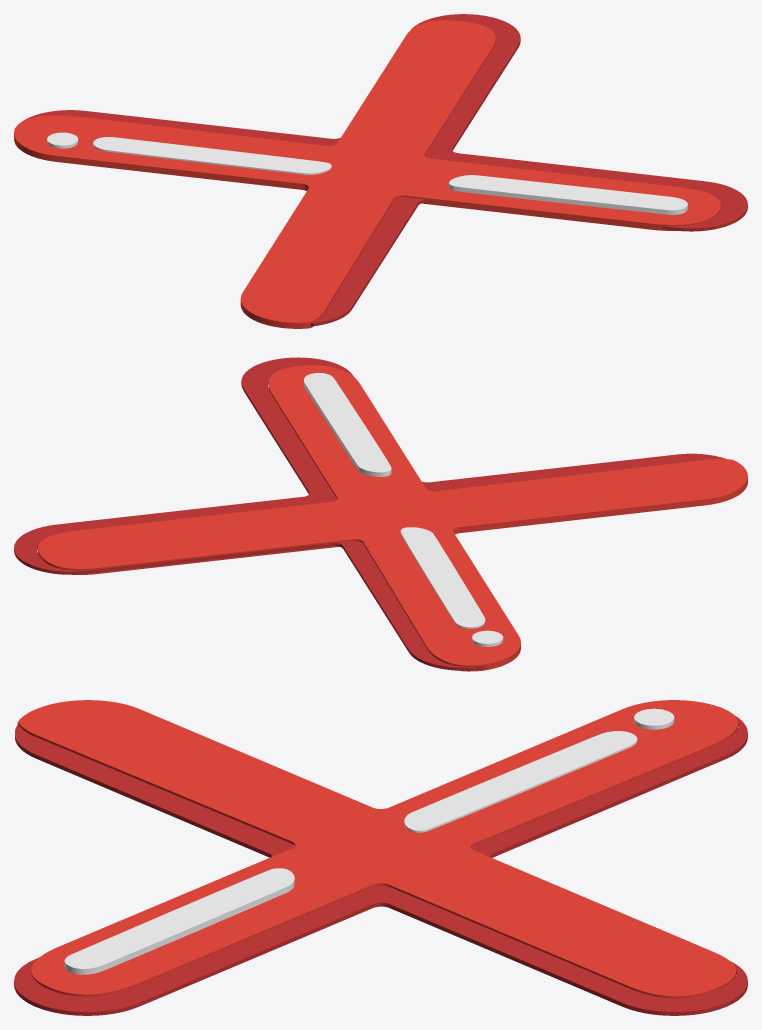
File: emoji_u274c.glb
3 renders of one model, top to bottom at view 1: azimuth 30°, elevation 25°; view 2: azimuth 150°, elevation 25°; view 3: azimuth 270°, elevation 25°, orthographic. The views are drawn at different scales.
Parts seen in each view (by area): view 1: emoji_u274c; view 2: emoji_u274c; view 3: emoji_u274c.
Boxes of the visible parts, x1=… form: emoji_u274c: x1=14, y1=14, x2=747, y2=328; emoji_u274c: x1=14, y1=357, x2=747, y2=671; emoji_u274c: x1=14, y1=700, x2=747, y2=1015.
Size of the model in its own units: 0.0339 by 0.001 by 0.0339.
